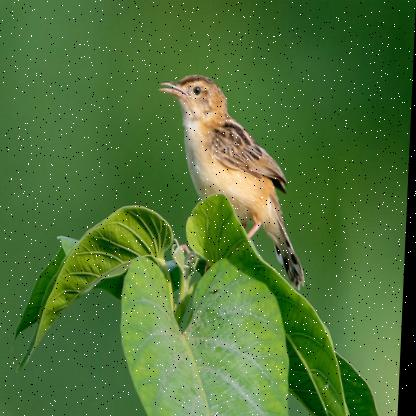Burung: (152, 74, 312, 290)
